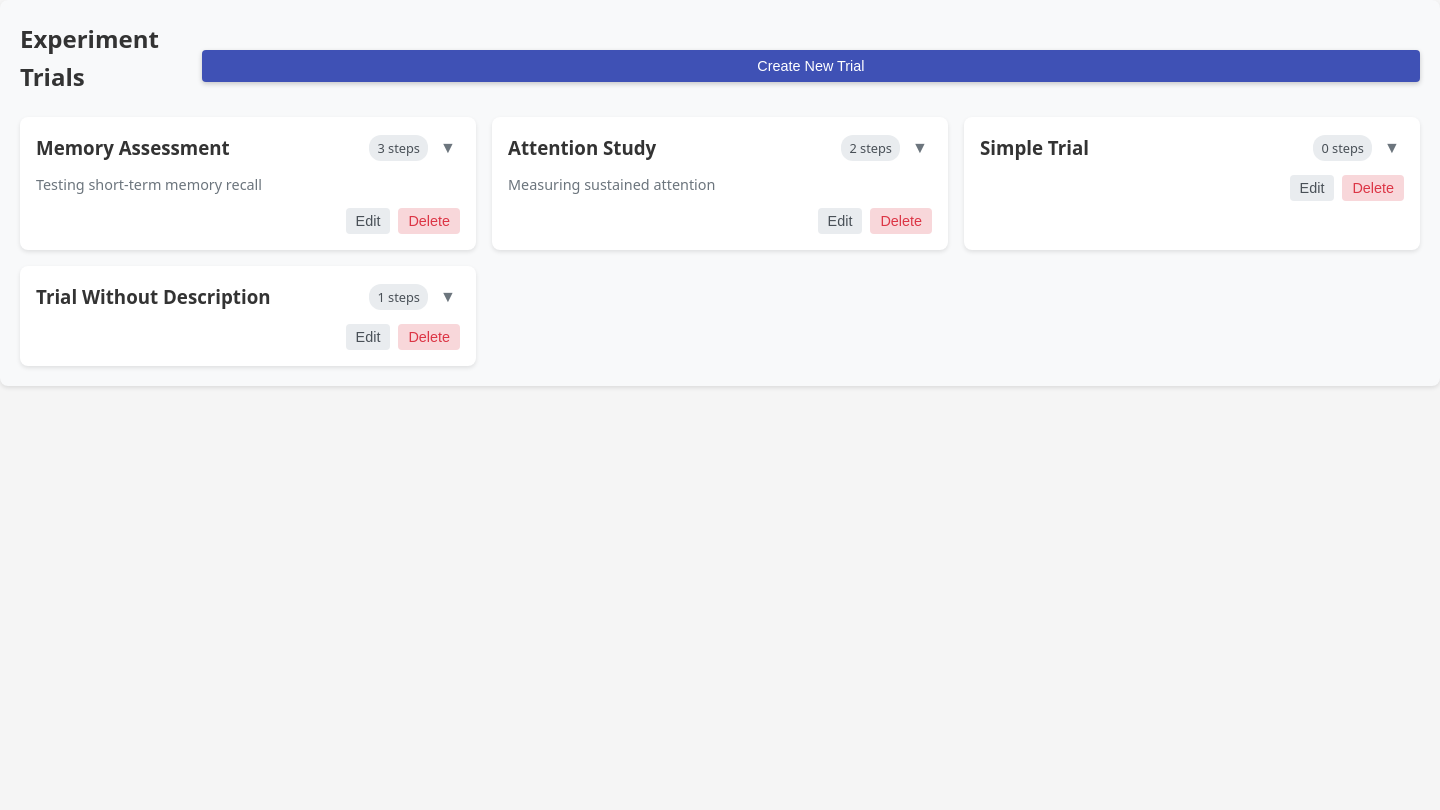
TrialList Component › Expand/Collapse Functionality › expands trial when expand button is clicked
This screenshot has width=1440, height=810.
Note: Click expand button for first trial
Click the button "▼" in the row of "Memory Assessment" at {"x": 448, "y": 148}, box [436,136,460,160]
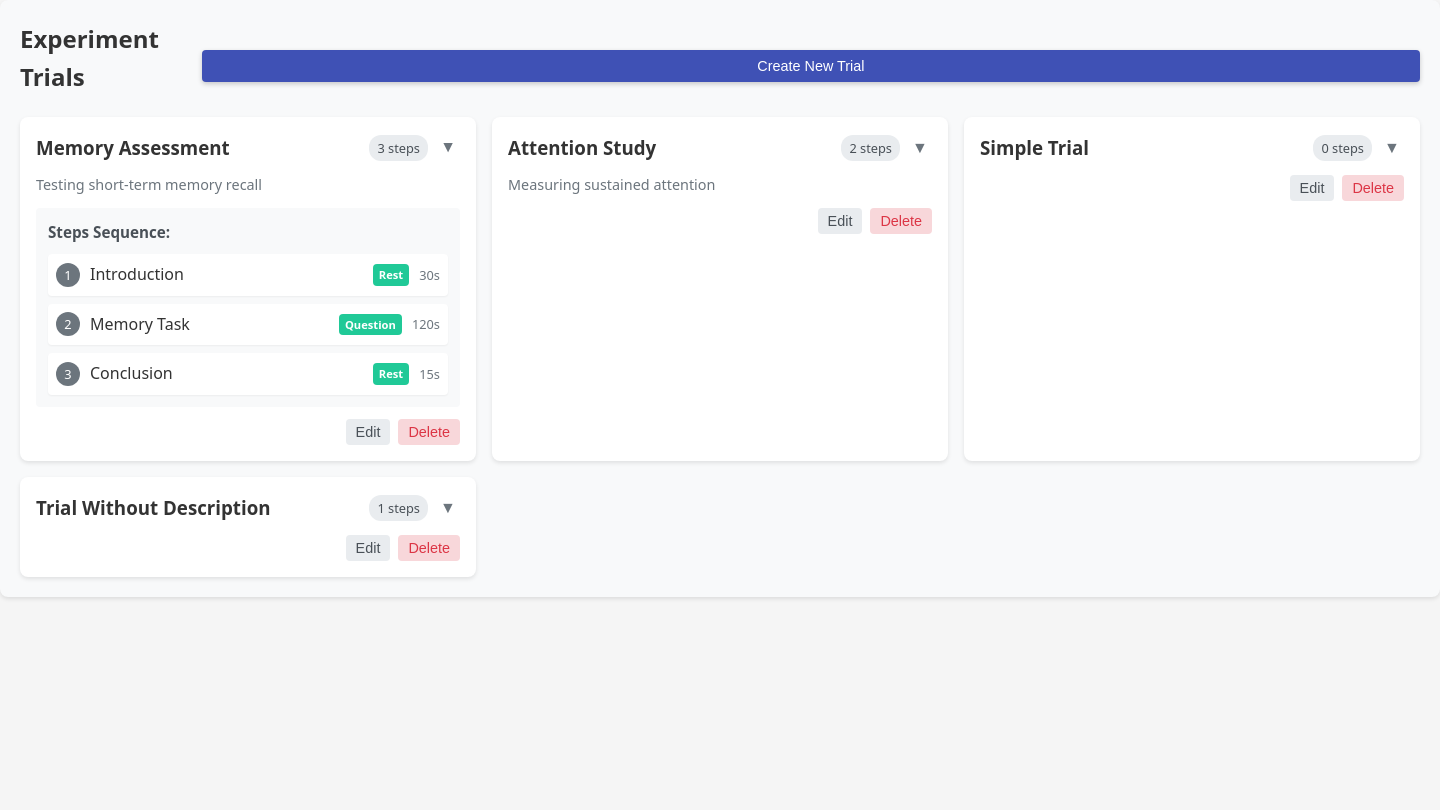
Expected: the heading "Steps Sequence:" is shown, [48,222,170,242]
Expected: the text "Introduction" is shown, [90,263,184,285]
Expected: the text "Memory Task" is shown, [90,313,190,335]
